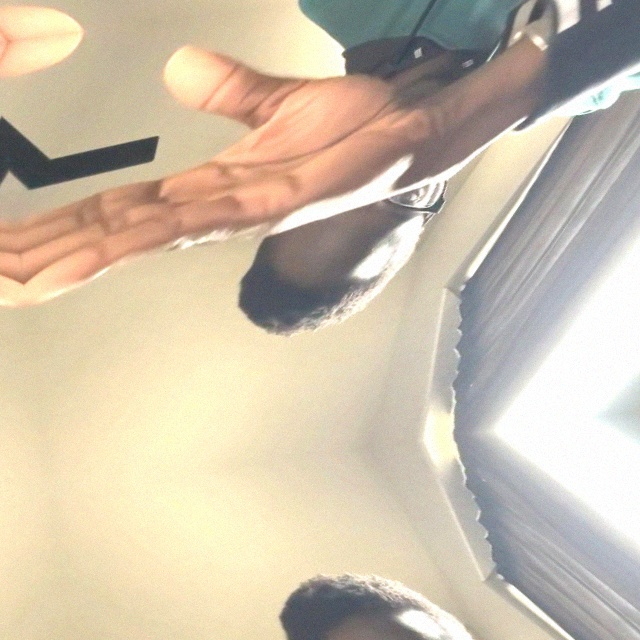Paper: (0, 0, 446, 32)
